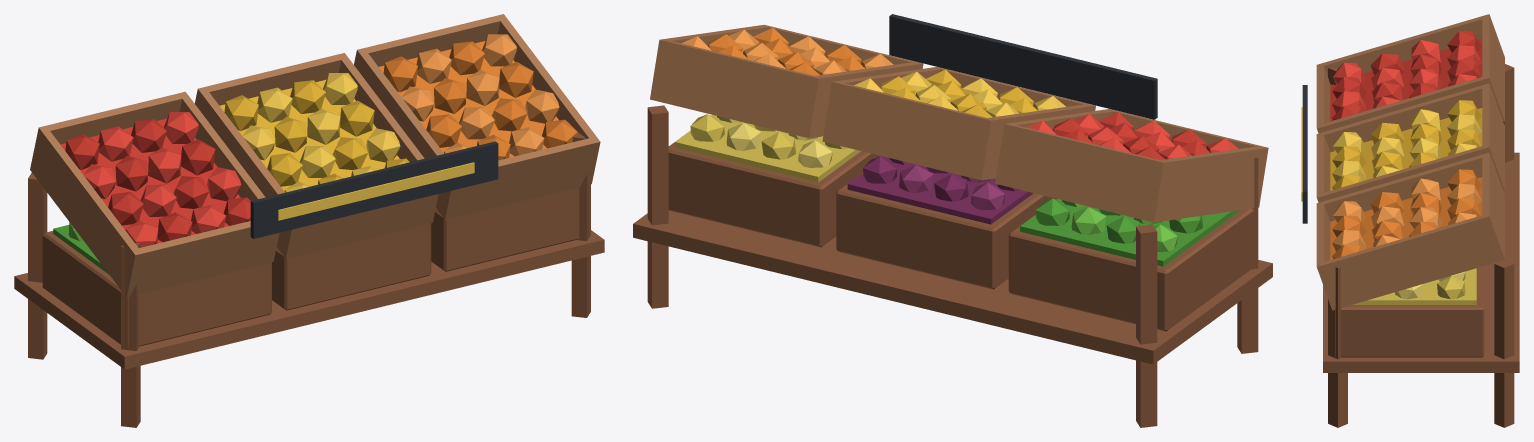
Rendered from produce.glb.
3 renders of one model, left to right at view 1: azimuth 30°, elevation 25°; view 2: azimuth 150°, elevation 25°; view 3: azimuth 270°, elevation 25°, orthographic. The views are drawn at different scales.
Parts seen in each view (by area): view 1: produce; view 2: produce; view 3: produce.
Boxes of the visible parts, bbox=[...] form: produce: bbox=[14, 14, 604, 427]; produce: bbox=[633, 14, 1272, 427]; produce: bbox=[1301, 14, 1519, 427].
Bounding box in the file's own units: 1.96 × 0.9215 × 0.865.
